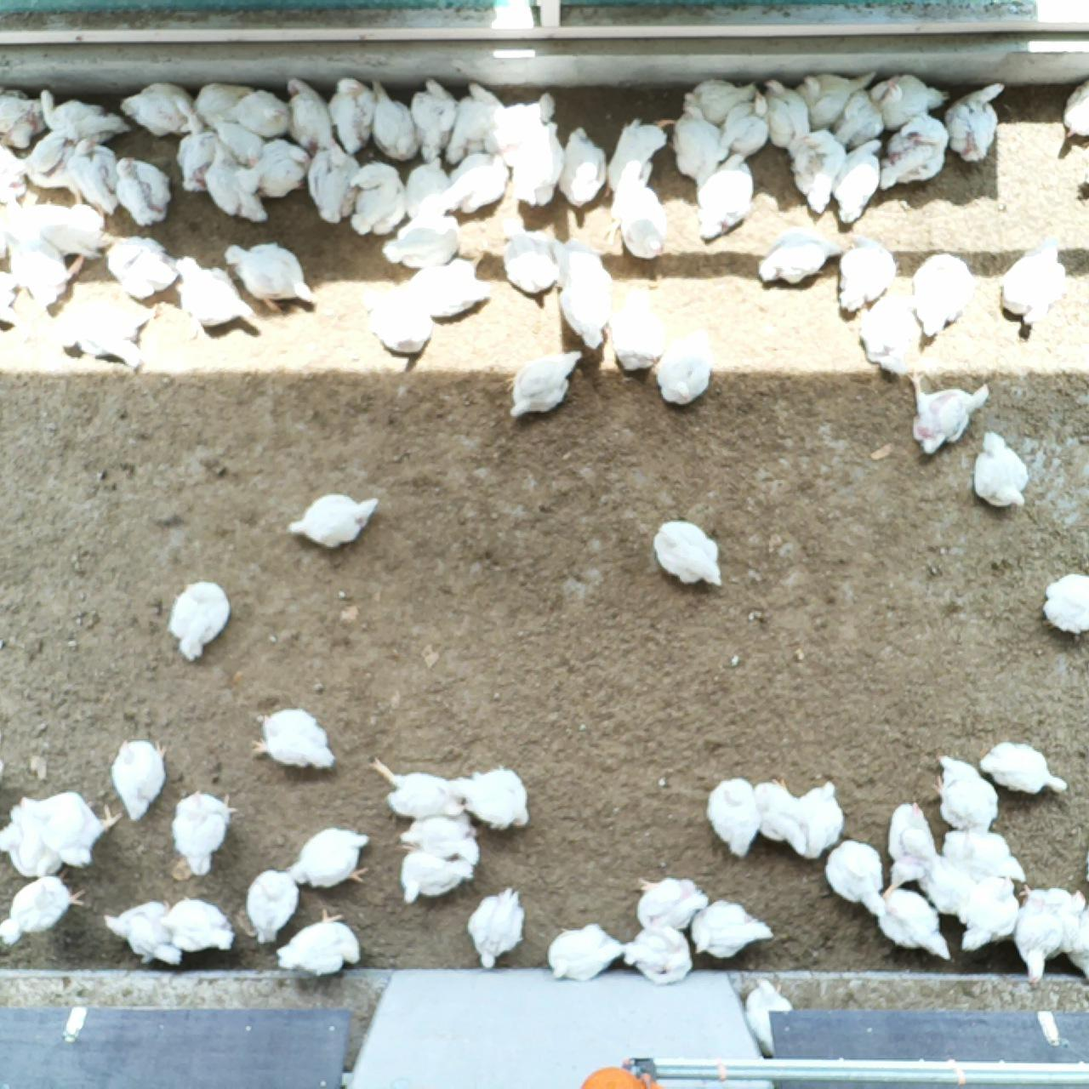chicken: (19, 786, 122, 871), (904, 363, 991, 458), (551, 233, 616, 351), (0, 865, 88, 950), (54, 295, 153, 370), (225, 239, 321, 314), (7, 215, 86, 304), (172, 251, 259, 331), (366, 753, 473, 818), (602, 158, 667, 262), (168, 787, 239, 879), (996, 236, 1067, 328), (407, 247, 494, 321), (95, 229, 183, 302), (928, 750, 1003, 835), (908, 248, 976, 341), (603, 112, 675, 199), (249, 705, 337, 775), (445, 762, 534, 831), (99, 898, 186, 968), (275, 909, 363, 978), (877, 110, 950, 192), (694, 151, 757, 246), (875, 885, 954, 960), (879, 800, 937, 901), (11, 129, 87, 206), (503, 349, 584, 420), (165, 578, 232, 663), (286, 491, 382, 550), (360, 284, 436, 358), (464, 885, 529, 971), (791, 68, 878, 132), (853, 289, 916, 377), (752, 226, 844, 286), (688, 898, 778, 959), (945, 80, 1008, 167), (823, 837, 888, 921), (287, 824, 372, 888), (969, 426, 1032, 512), (28, 192, 110, 258), (109, 736, 170, 824), (978, 740, 1072, 797), (38, 87, 130, 145), (941, 827, 1031, 886), (444, 80, 505, 167), (305, 133, 362, 226), (959, 872, 1022, 955), (606, 283, 665, 371), (701, 773, 762, 858), (836, 231, 898, 314), (654, 328, 718, 408), (545, 919, 626, 982), (1012, 888, 1064, 986), (790, 125, 846, 216), (0, 802, 66, 879), (117, 79, 201, 139), (651, 519, 723, 588), (869, 70, 949, 132), (510, 120, 567, 207), (66, 136, 124, 220), (668, 101, 726, 185), (500, 214, 560, 295), (829, 138, 884, 226), (381, 212, 463, 271), (237, 137, 312, 201), (112, 153, 175, 229), (739, 975, 795, 1060), (398, 815, 485, 869), (631, 873, 710, 932), (366, 78, 421, 162), (623, 924, 695, 987), (485, 90, 557, 153), (399, 849, 477, 907), (409, 75, 459, 165), (442, 150, 509, 217), (244, 868, 302, 945), (348, 161, 406, 236), (716, 90, 773, 166), (283, 76, 340, 152), (160, 898, 235, 955), (796, 780, 848, 861), (559, 125, 610, 207), (915, 851, 978, 917), (760, 76, 812, 150), (684, 76, 759, 126), (175, 111, 219, 194), (223, 86, 294, 137), (192, 81, 263, 130), (1037, 570, 1089, 635), (403, 154, 452, 220), (751, 775, 797, 844), (1046, 884, 1089, 956), (0, 93, 48, 150), (3, 202, 66, 244), (212, 120, 268, 165), (1060, 75, 1089, 143), (0, 145, 34, 200), (0, 267, 27, 328)
